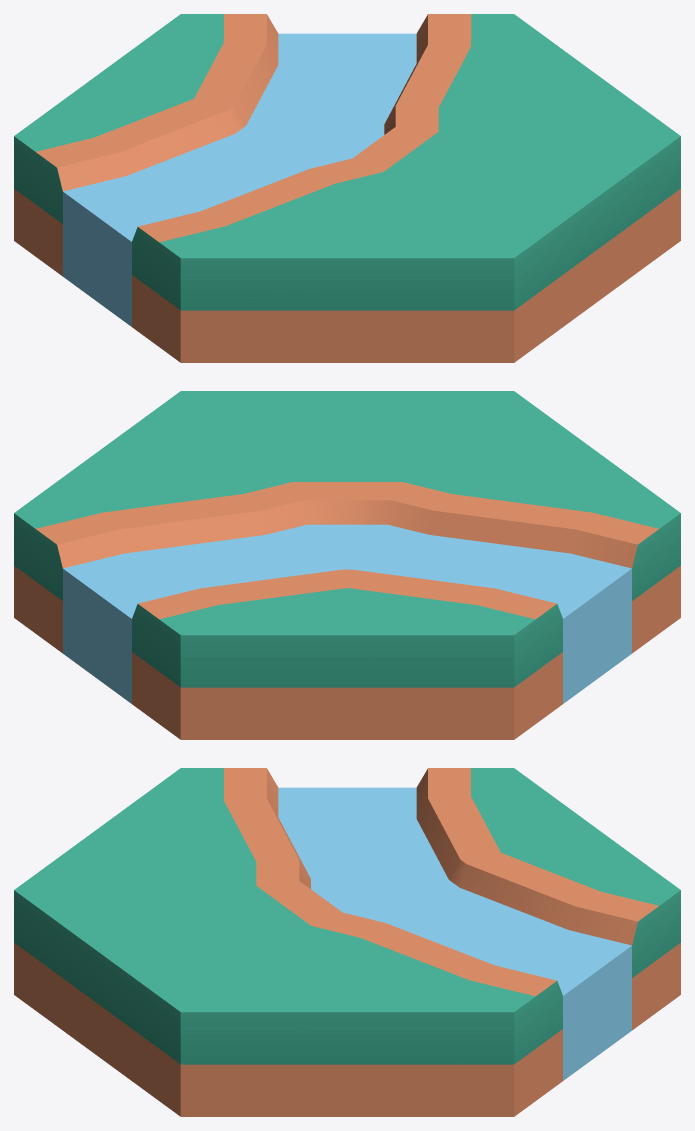
Rendered from river-corner.glb.
3 views of the same model, one above another, from view 1: azimuth 30°, elevation 25°; view 2: azimuth 150°, elevation 25°; view 3: azimuth 270°, elevation 25° (orthographic).
Visible parts, largest first — view 1: river-corner; view 2: river-corner; view 3: river-corner.
Part boxes in pixels (x1,y1,x2,y2): river-corner: (14, 14, 680, 362); river-corner: (14, 391, 680, 739); river-corner: (14, 768, 680, 1116).
Size of the model in its own units: 1 by 0.2 by 1.15.
Materials: 1 (1 with a texture image).
